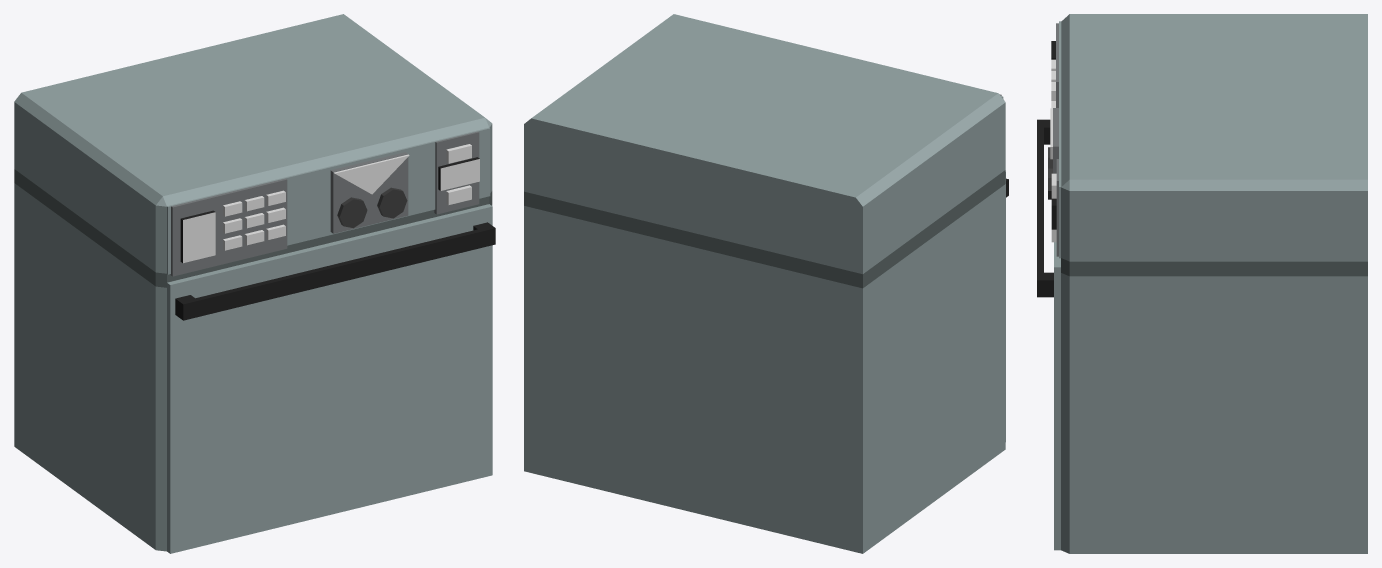
Rendered from Dishwasher.fbx.
3 views of the same model, side by side, from view 1: azimuth 30°, elevation 25°; view 2: azimuth 150°, elevation 25°; view 3: azimuth 270°, elevation 25° (orthographic). The views are drawn at different scales.
Parts seen in each view (by area): view 1: Dishwasher; view 2: Dishwasher; view 3: Dishwasher.
Boxes of the visible parts, <box> form: Dishwasher: <box>14,14,495,553</box>; Dishwasher: <box>524,14,1008,553</box>; Dishwasher: <box>1037,14,1367,553</box>.
Size of the model in its own units: 1.43 by 1.43 by 1.16.
